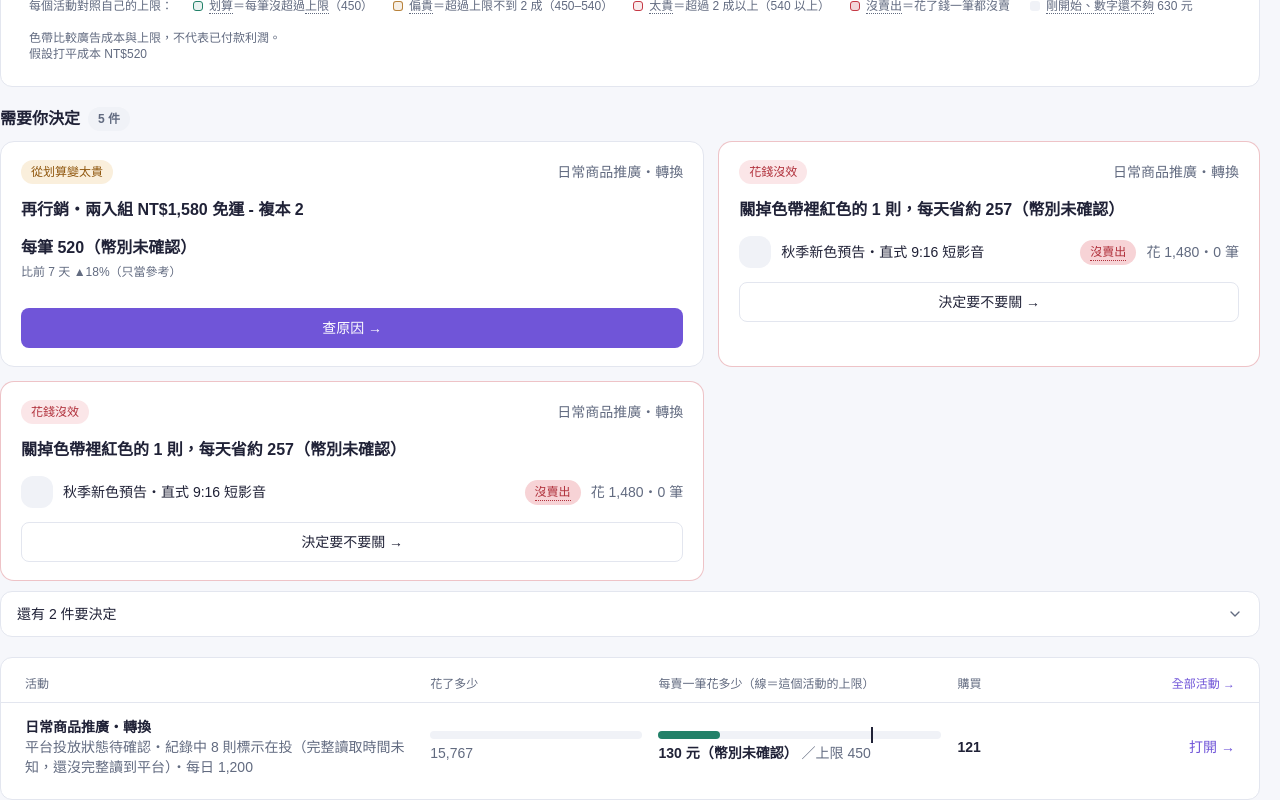
Scenario: AdsHomePage (F28-I08 board D) › more than three open decisions: three cards, the rest behind one closed fold that uses the cleanup cut mark
The image size is (1280, 800).
(page scrolled)
Click the button "還有 2 件要決定" at (67, 614), box [1,592,1259,636]
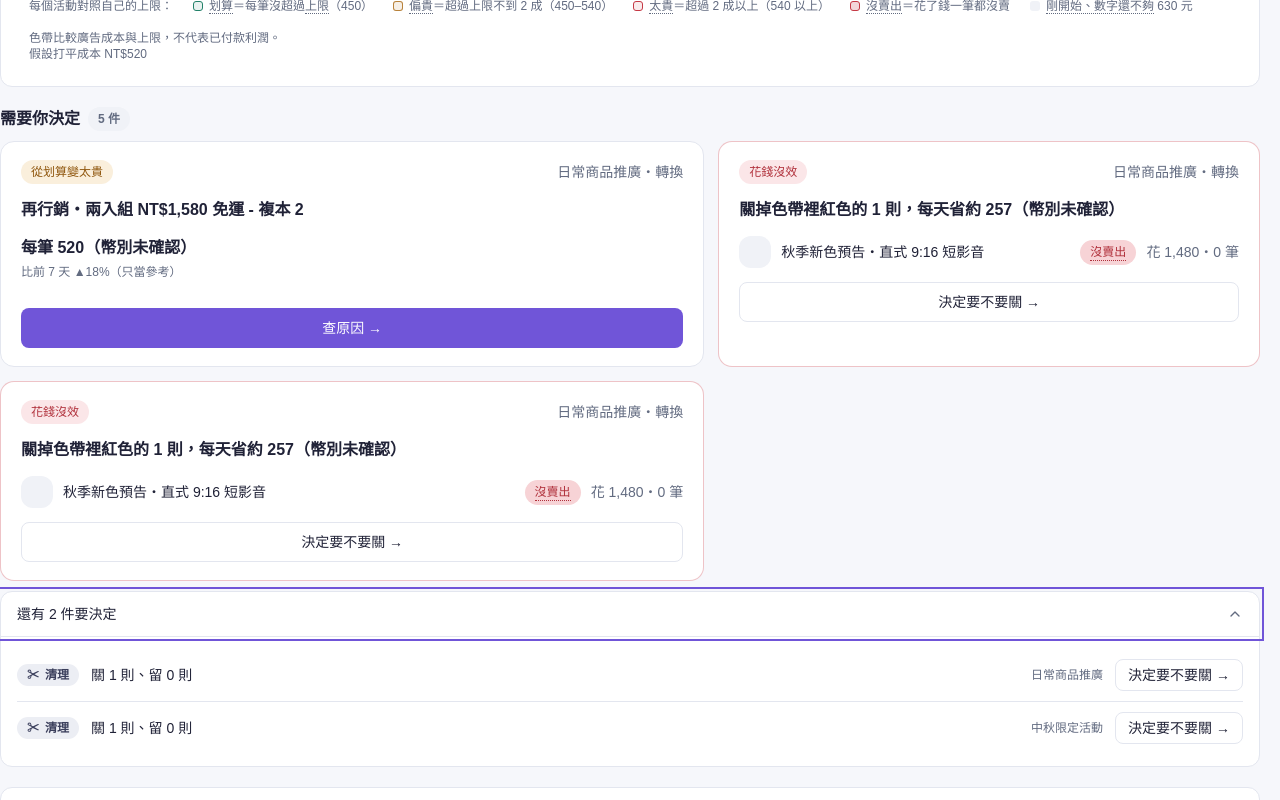
Expected: the text "5 件" is shown, [88,107,130,131]
Expected: the text "中秋限定活動" is shown, [1031,720,1103,736]
Expected: the 1st element showing "✂ 清理" is shown, [17,664,79,686]
